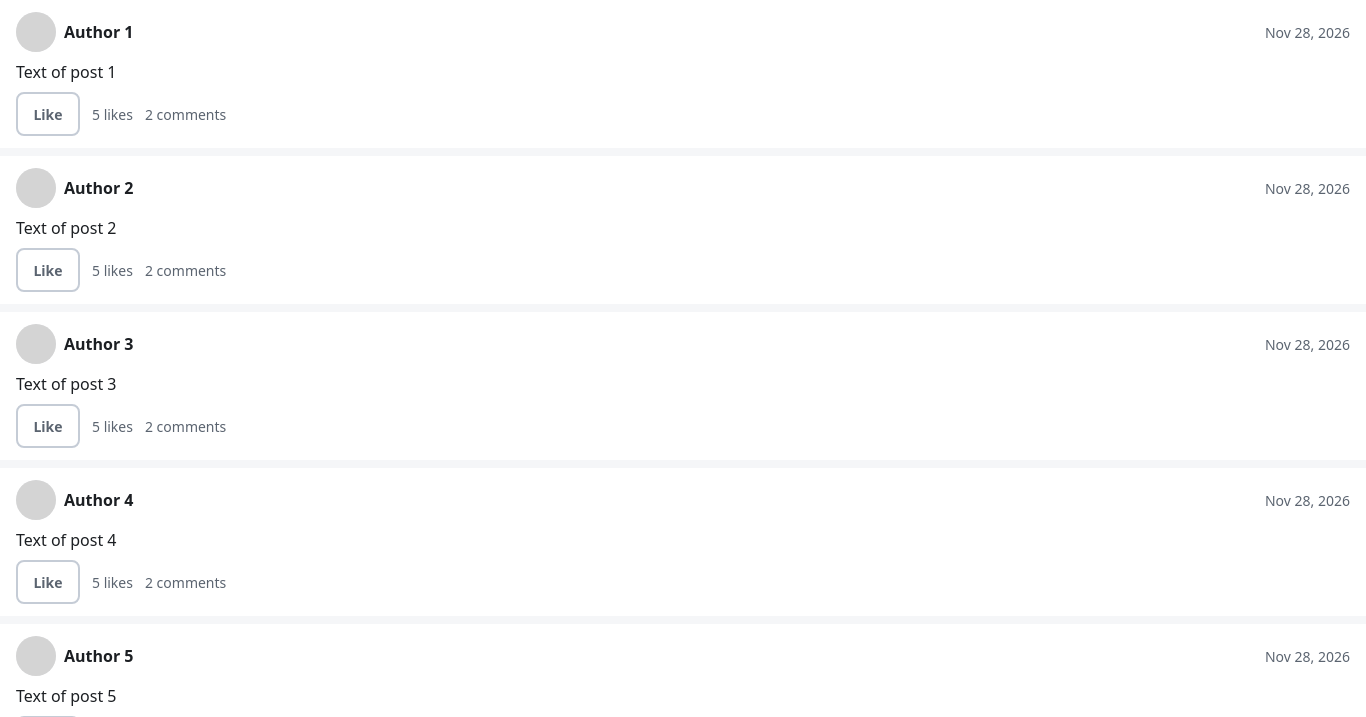
Test case: Feed: the like button › goes back and tells the user when the server refuses the like
Click the 1st button "Like".
click(48, 114)  # box [16, 92, 80, 136]
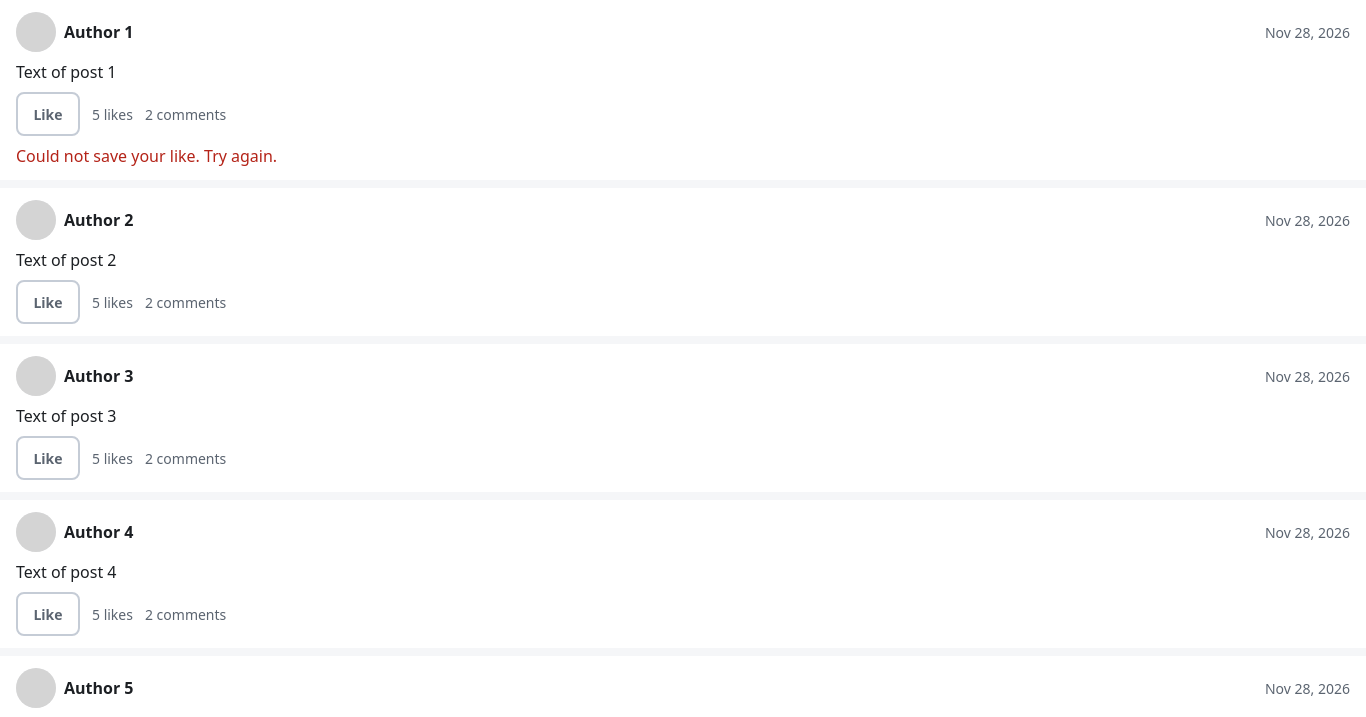
Expected: the 1st text "5 likes" is shown, [92, 104, 133, 124]
Expected: the message shows "Could not save your like.", [16, 145, 277, 167]
